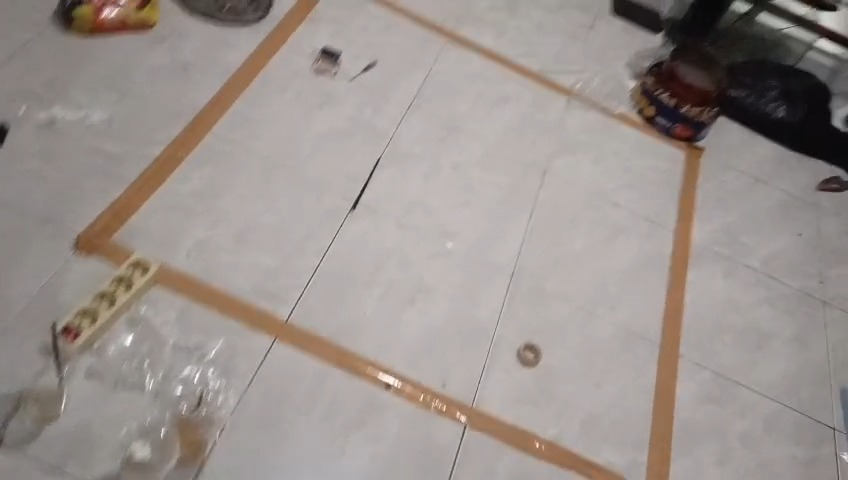floor marking: (375, 0, 703, 479), (154, 265, 622, 479), (76, 0, 317, 265)
